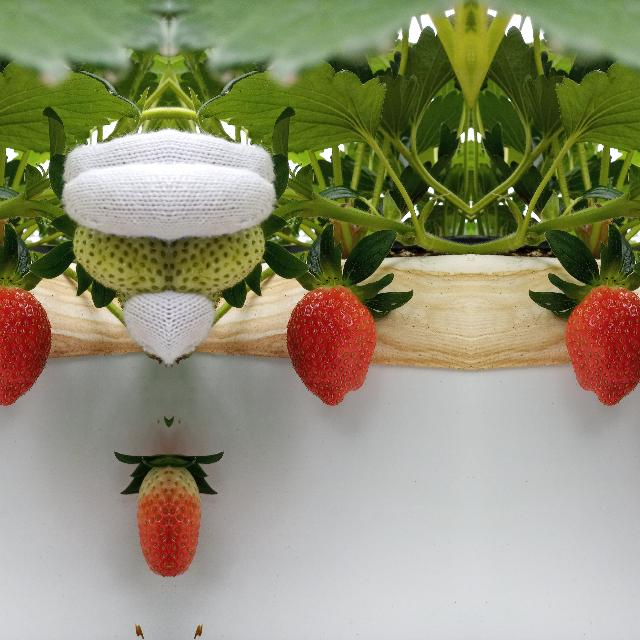Health_100: (284, 285, 376, 405), (565, 285, 640, 405), (0, 285, 52, 405)
